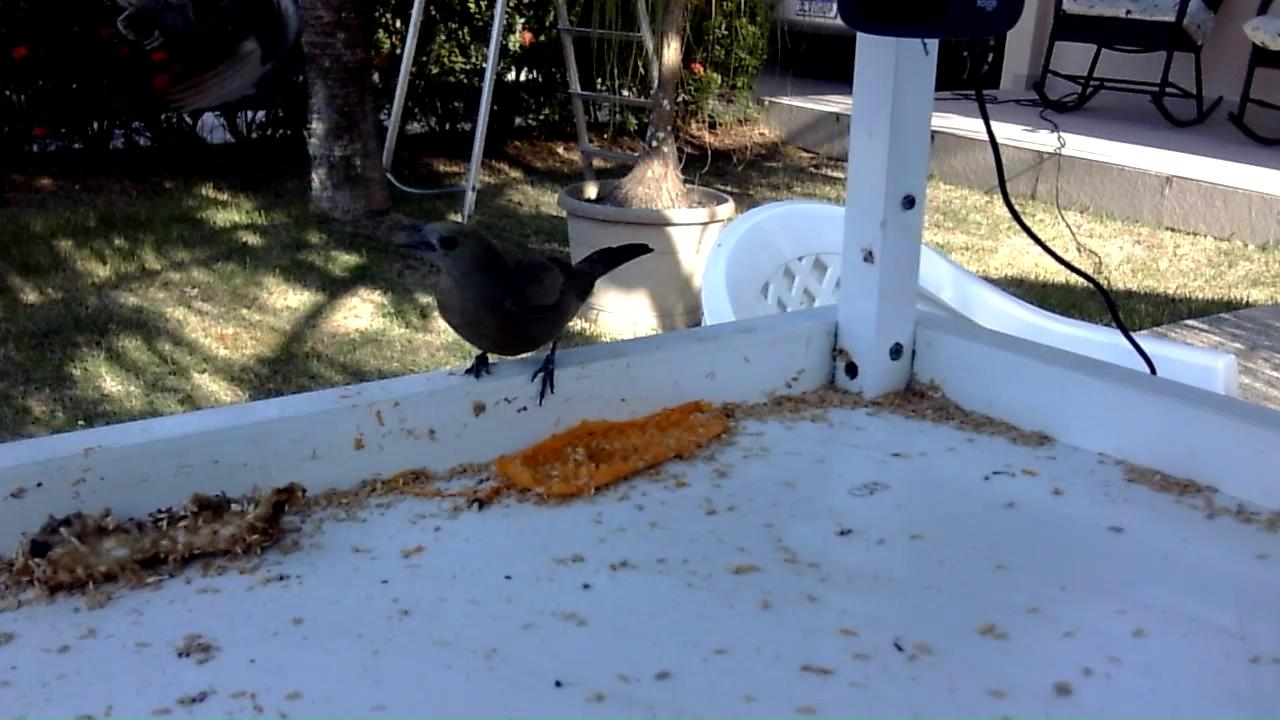sanhaco_do_coqueiro: (393, 217, 658, 412)
